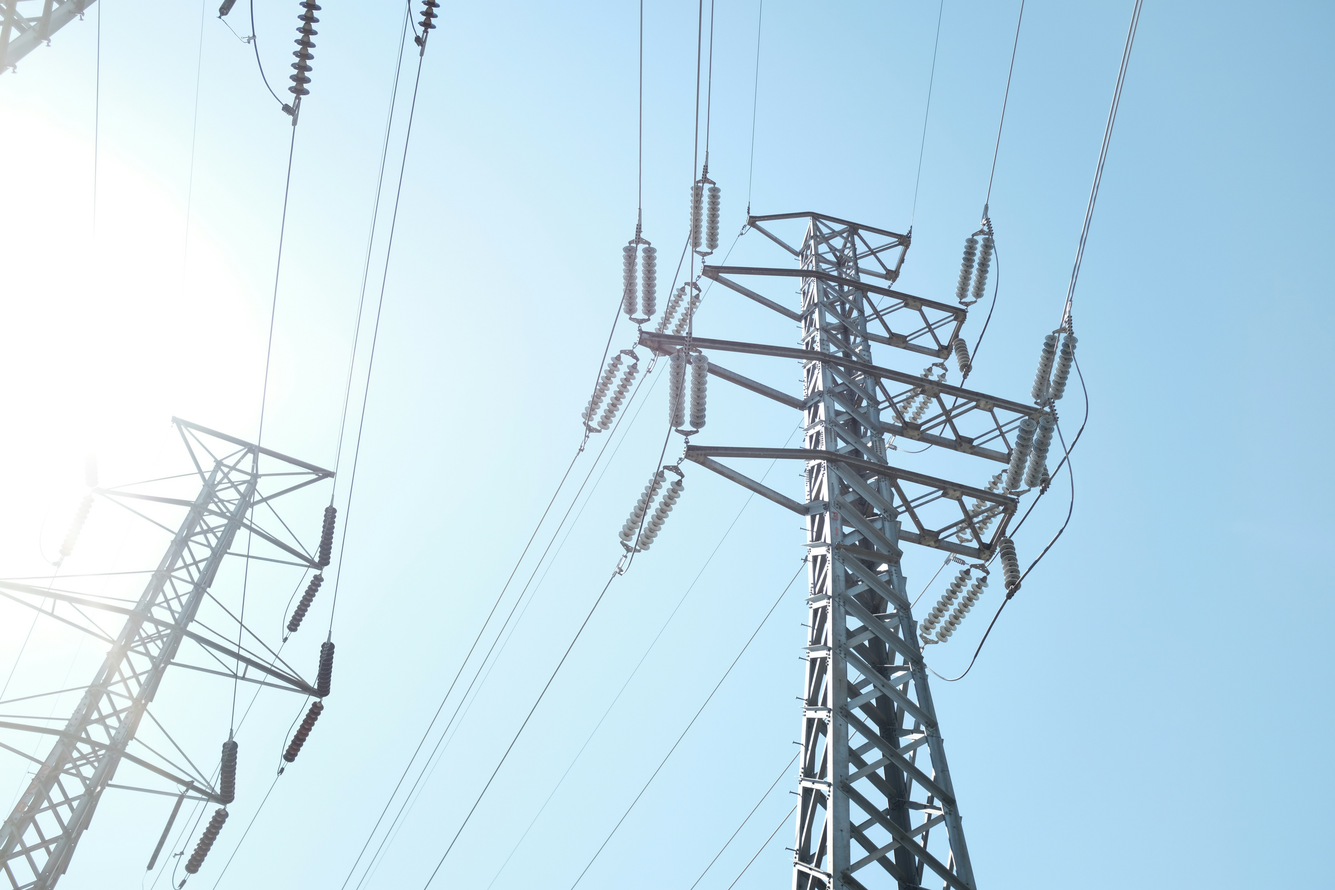insulator: (614, 470, 695, 557), (576, 352, 644, 444), (923, 563, 989, 649), (1001, 416, 1066, 493), (949, 473, 1021, 541), (283, 0, 325, 106), (1028, 328, 1082, 410), (665, 346, 714, 435), (615, 237, 660, 327), (895, 367, 956, 429), (955, 230, 1002, 305), (184, 810, 233, 880), (687, 170, 723, 261), (283, 702, 332, 767), (285, 574, 332, 637), (660, 281, 706, 343), (997, 530, 1024, 598), (318, 495, 339, 575), (219, 733, 238, 808), (315, 635, 335, 699), (416, 2, 438, 60), (950, 334, 972, 377)
